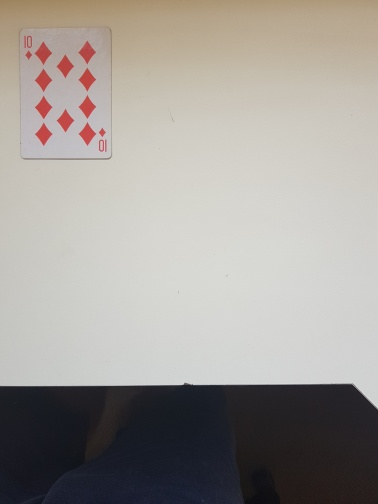ten: (19, 26, 111, 161)
